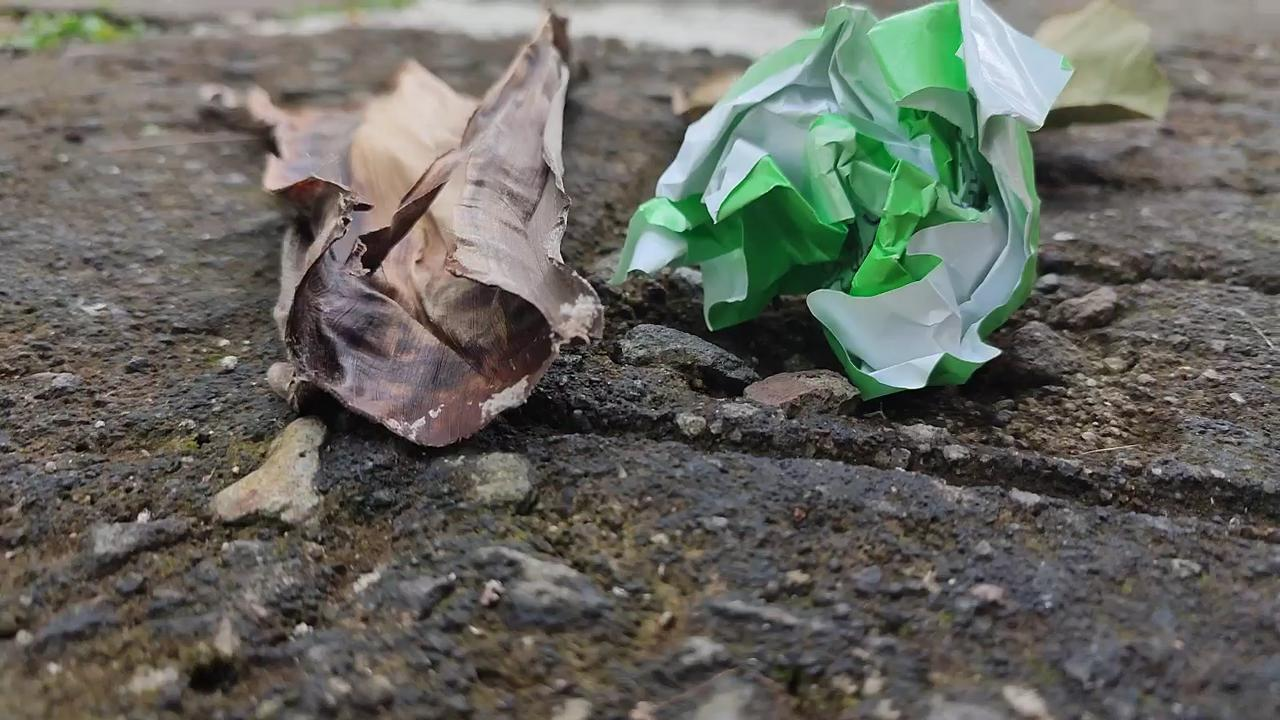Paper: (595, 0, 1072, 430)
